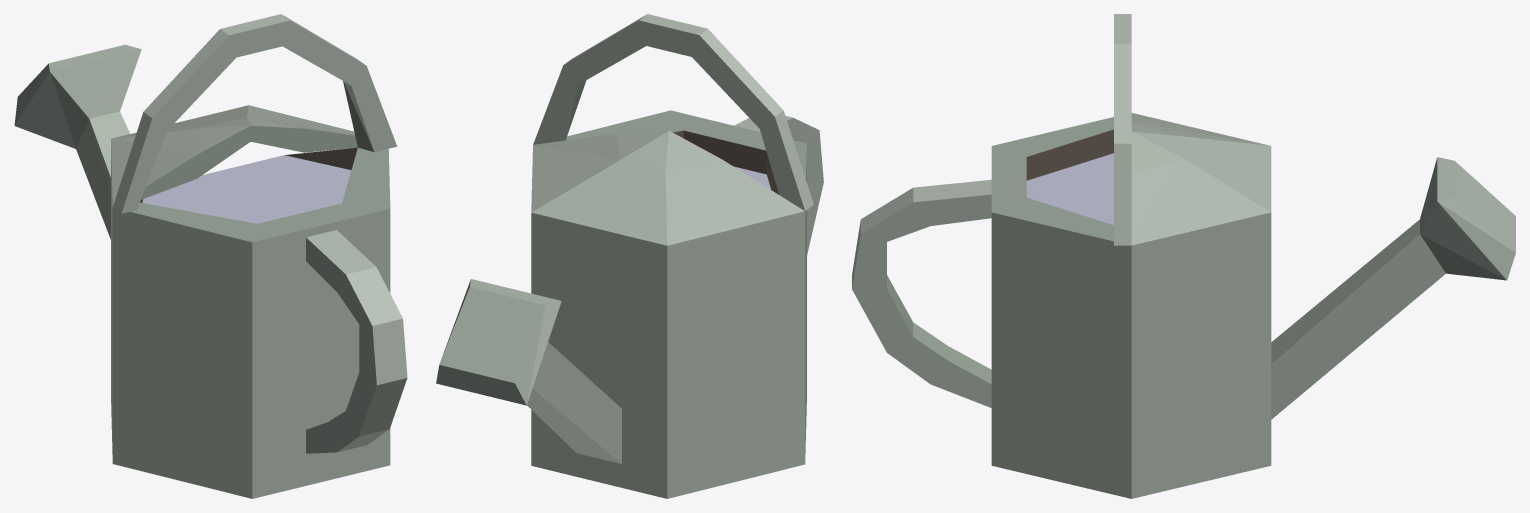
Rendered from gricoller-s-can.gltf.
3 views of the same model, side by side, from view 1: azimuth 30°, elevation 25°; view 2: azimuth 150°, elevation 25°; view 3: azimuth 270°, elevation 25° (orthographic).
Size of the model in its own units: 36 by 51 by 76.
Materials: 1 (1 with a texture image).
